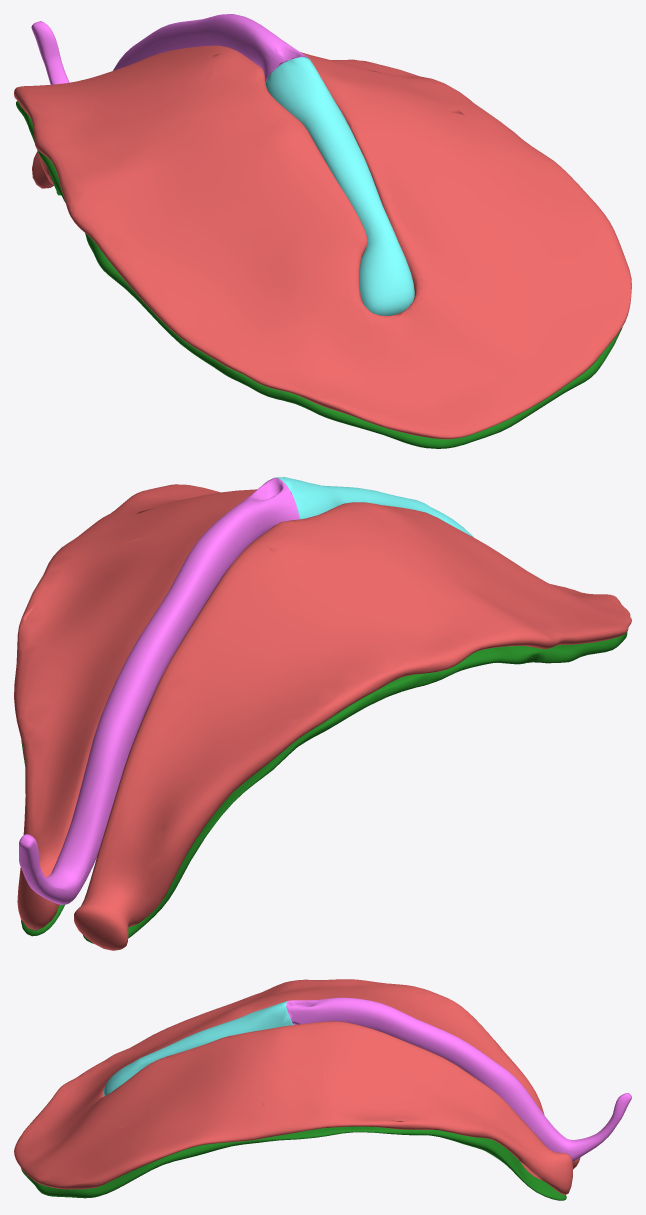
The model's file is Mesoderm.fbx.
3 views of the same model, one above another, from view 1: azimuth 30°, elevation 25°; view 2: azimuth 150°, elevation 25°; view 3: azimuth 270°, elevation 25° (orthographic). The views are drawn at different scales.
Parts seen in each view (by area): view 1: polySurface8, polySurface9, polySurface10, polySurface7; view 2: polySurface8, polySurface10, polySurface7, polySurface9; view 3: polySurface8, polySurface10, polySurface7, polySurface9.
Part boxes in pixels (x1,y1,x2,y2): polySurface8: (14, 45, 631, 439); polySurface9: (265, 57, 414, 315); polySurface10: (31, 14, 309, 84); polySurface7: (16, 101, 622, 448); polySurface8: (14, 484, 631, 950); polySurface10: (19, 477, 299, 904); polySurface7: (21, 632, 627, 943); polySurface9: (276, 477, 473, 537); polySurface8: (14, 979, 580, 1194); polySurface10: (286, 997, 631, 1161); polySurface7: (21, 1126, 566, 1200); polySurface9: (104, 1001, 293, 1095).
Bounding box in the file's own units: 9.38 × 5.59 × 16.41.
